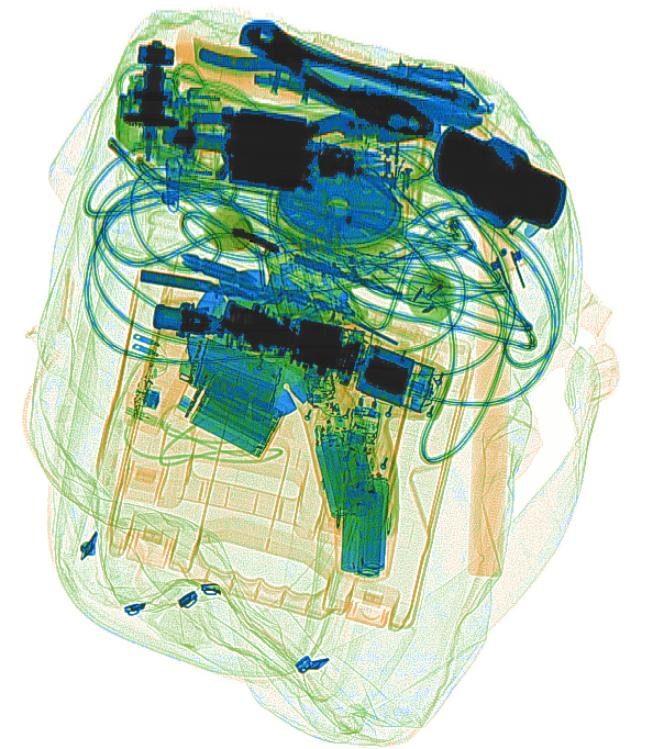battery: (188, 373, 286, 462), (184, 336, 283, 414), (313, 419, 377, 518), (339, 474, 391, 579)
